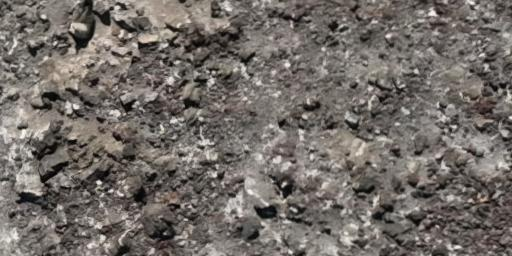skua: (61, 0, 103, 51)
